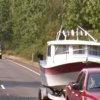Boat: (31, 21, 96, 94)
